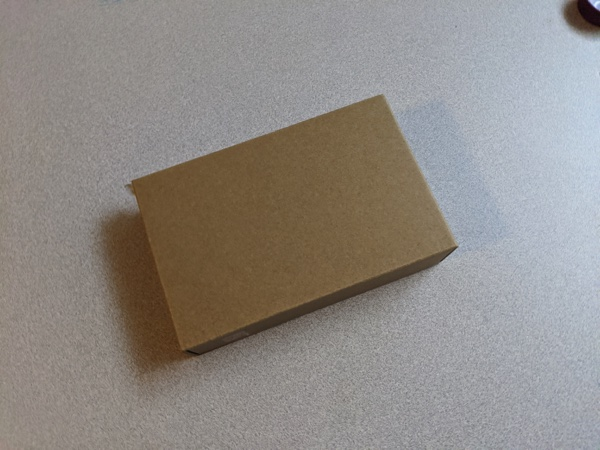cardboard: (105, 82, 476, 383)
